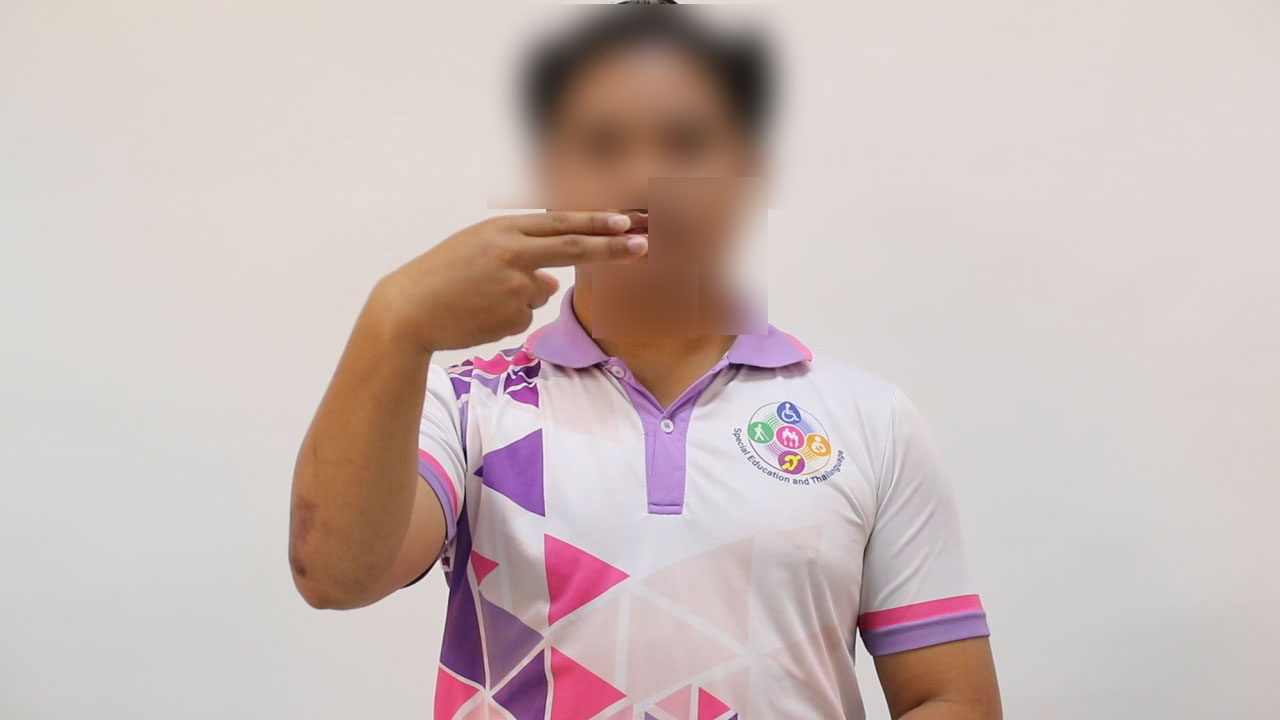hor: (354, 199, 663, 360)
